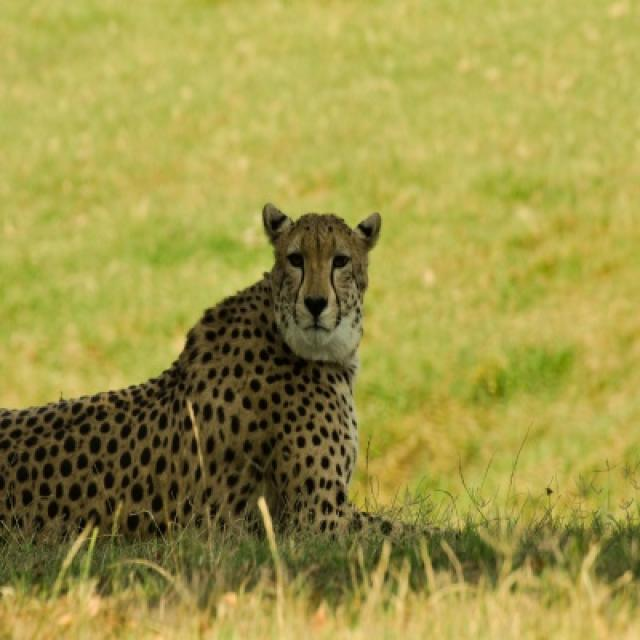Cheetah: (0, 200, 473, 545)
